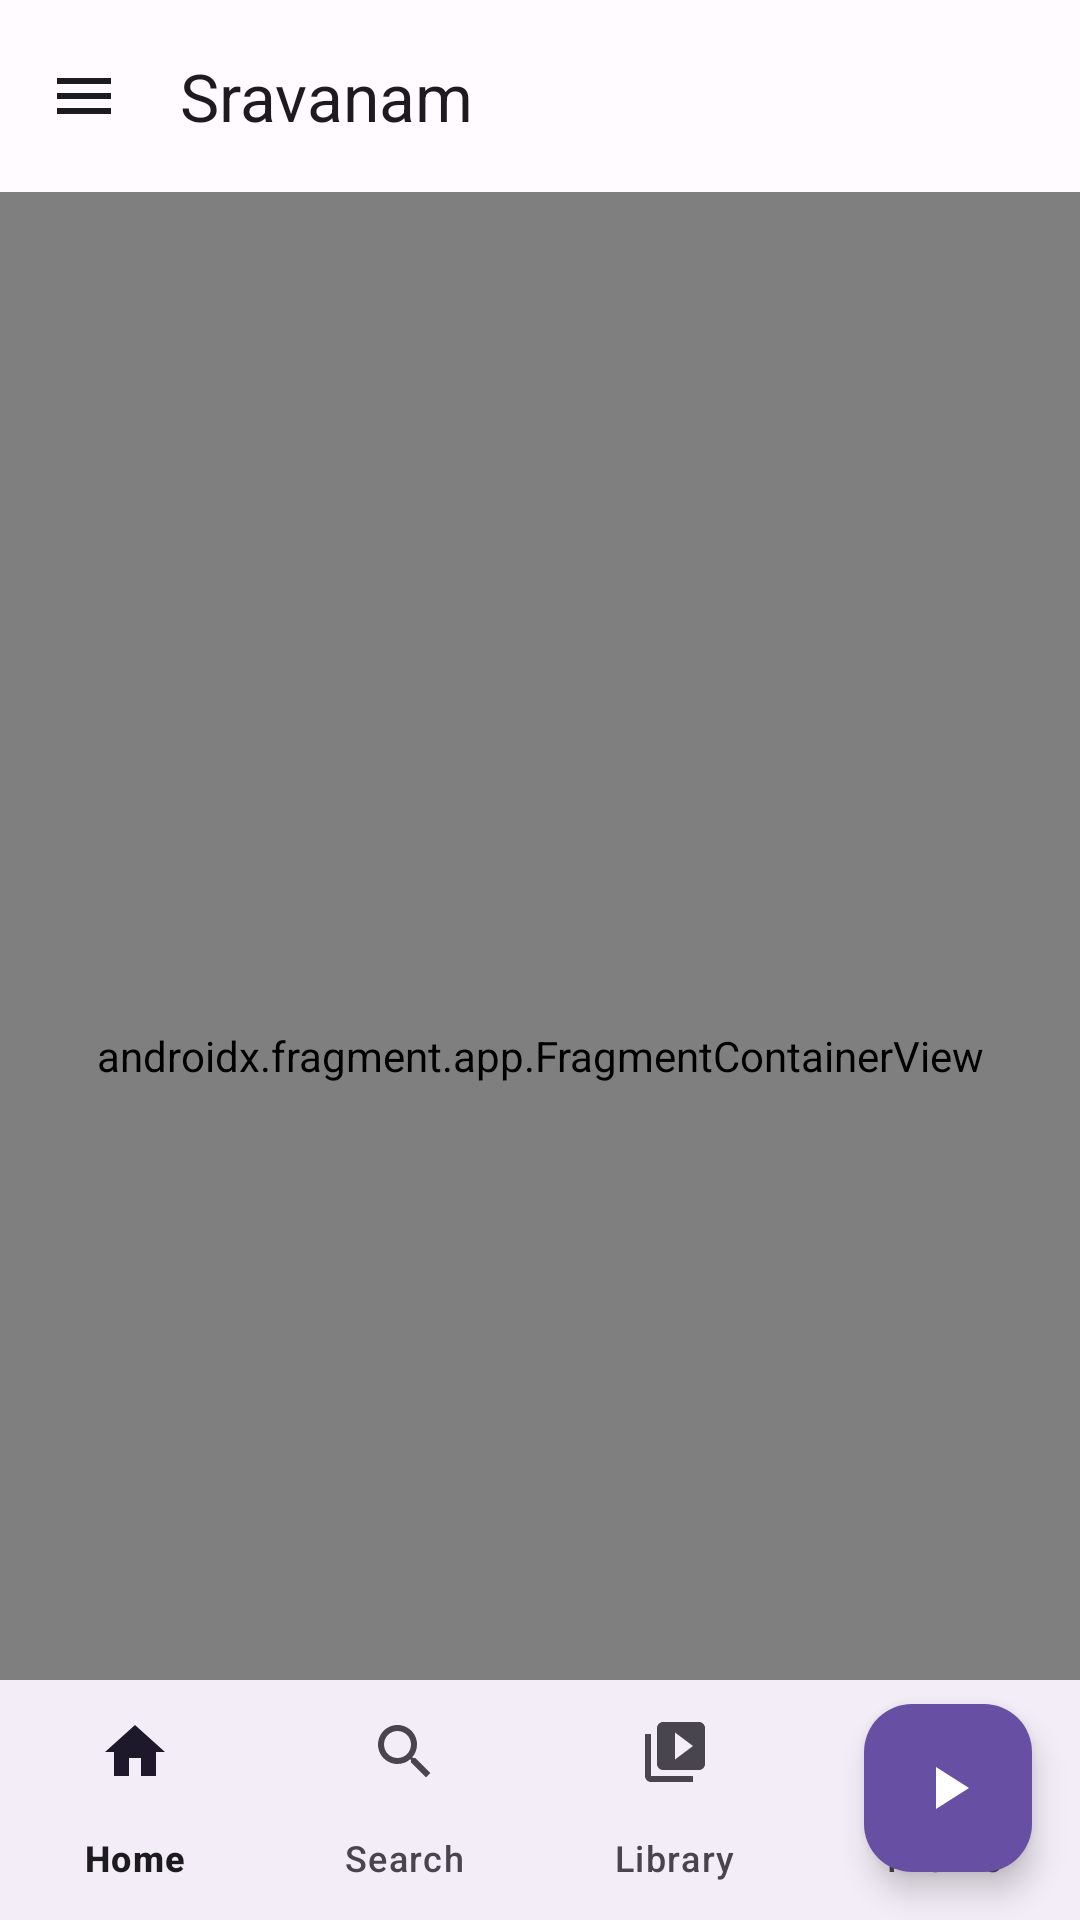

Icons on this 1080*1920 Android screen, each with its box as [x1, y1, x2, y2]:
play: [864, 1704, 1032, 1872]
